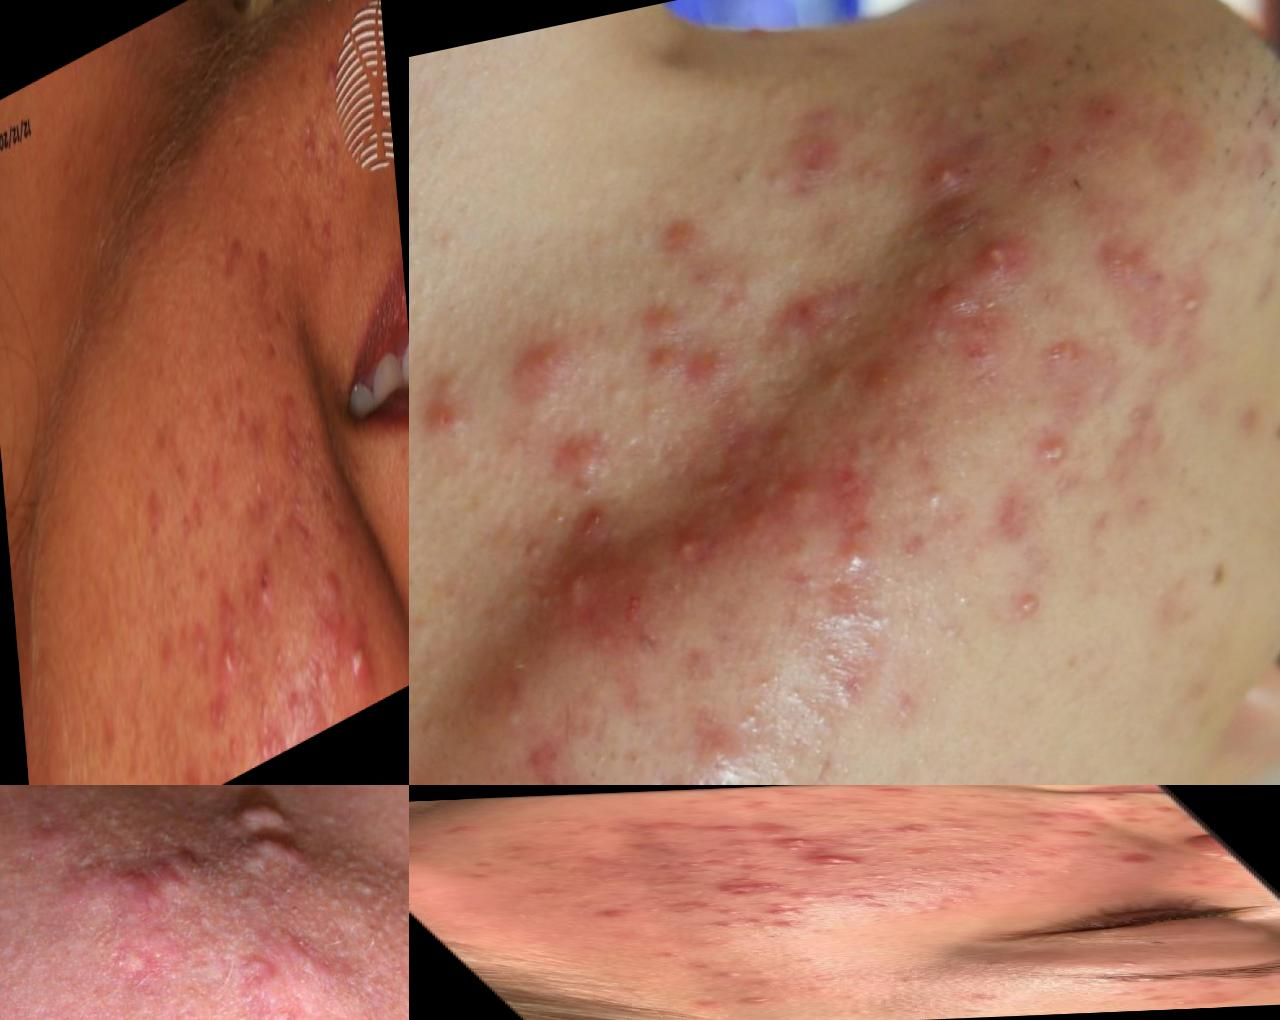keloid: (91, 837, 210, 928), (217, 786, 313, 892), (252, 911, 342, 1013)
papular: (711, 499, 783, 573), (771, 461, 835, 529), (246, 544, 285, 634), (313, 544, 350, 639), (725, 822, 823, 841), (1092, 851, 1172, 867), (878, 822, 956, 838), (1043, 808, 1105, 822), (572, 908, 642, 920), (673, 901, 741, 913), (1004, 810, 1063, 822), (662, 860, 724, 871), (1053, 828, 1110, 840), (1138, 804, 1193, 815), (869, 786, 923, 796), (702, 825, 754, 835), (732, 865, 778, 874)
purulent: (637, 508, 714, 585), (969, 220, 1038, 299), (907, 141, 974, 220), (995, 563, 1057, 642), (1020, 419, 1087, 492), (817, 518, 890, 585), (1167, 272, 1220, 357), (337, 618, 384, 709), (900, 464, 965, 526), (215, 612, 250, 680), (315, 32, 343, 105), (711, 994, 801, 1010), (756, 900, 830, 918), (768, 835, 840, 849), (840, 892, 892, 903), (764, 845, 823, 855), (849, 901, 904, 911), (766, 921, 816, 930), (742, 917, 783, 925), (710, 921, 749, 929), (710, 908, 749, 916)
sebo-crystan-conglo: (526, 499, 680, 692), (488, 303, 601, 423), (680, 879, 794, 898), (783, 853, 887, 869)
whitehead: (693, 967, 807, 990), (1097, 985, 1191, 1006), (302, 389, 328, 467), (244, 449, 270, 520), (916, 814, 991, 838), (1100, 955, 1183, 972), (265, 635, 290, 686), (947, 990, 1019, 1008), (281, 226, 304, 275), (302, 110, 323, 163), (844, 871, 912, 883), (776, 889, 838, 901), (936, 792, 1001, 801), (922, 866, 976, 876), (897, 866, 939, 876), (740, 801, 790, 810), (1002, 795, 1049, 804), (794, 813, 830, 820), (930, 807, 966, 814), (410, 845, 433, 855)
